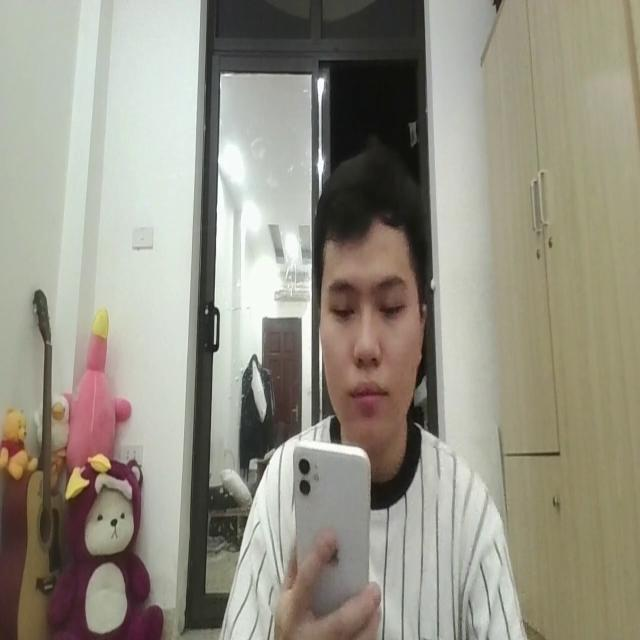phone: (291, 430, 372, 620)
student: (220, 134, 531, 640)
